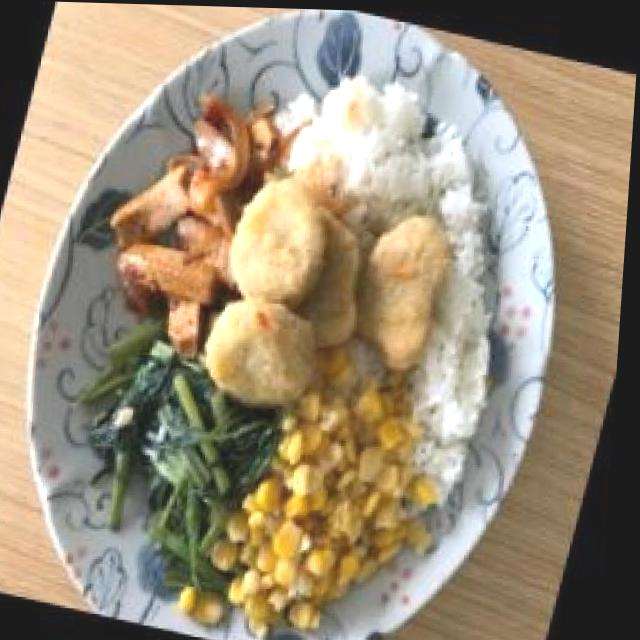chicken_nuggets: (191, 165, 470, 436)
rice: (289, 69, 487, 221)
water_spinach: (82, 346, 295, 590)
